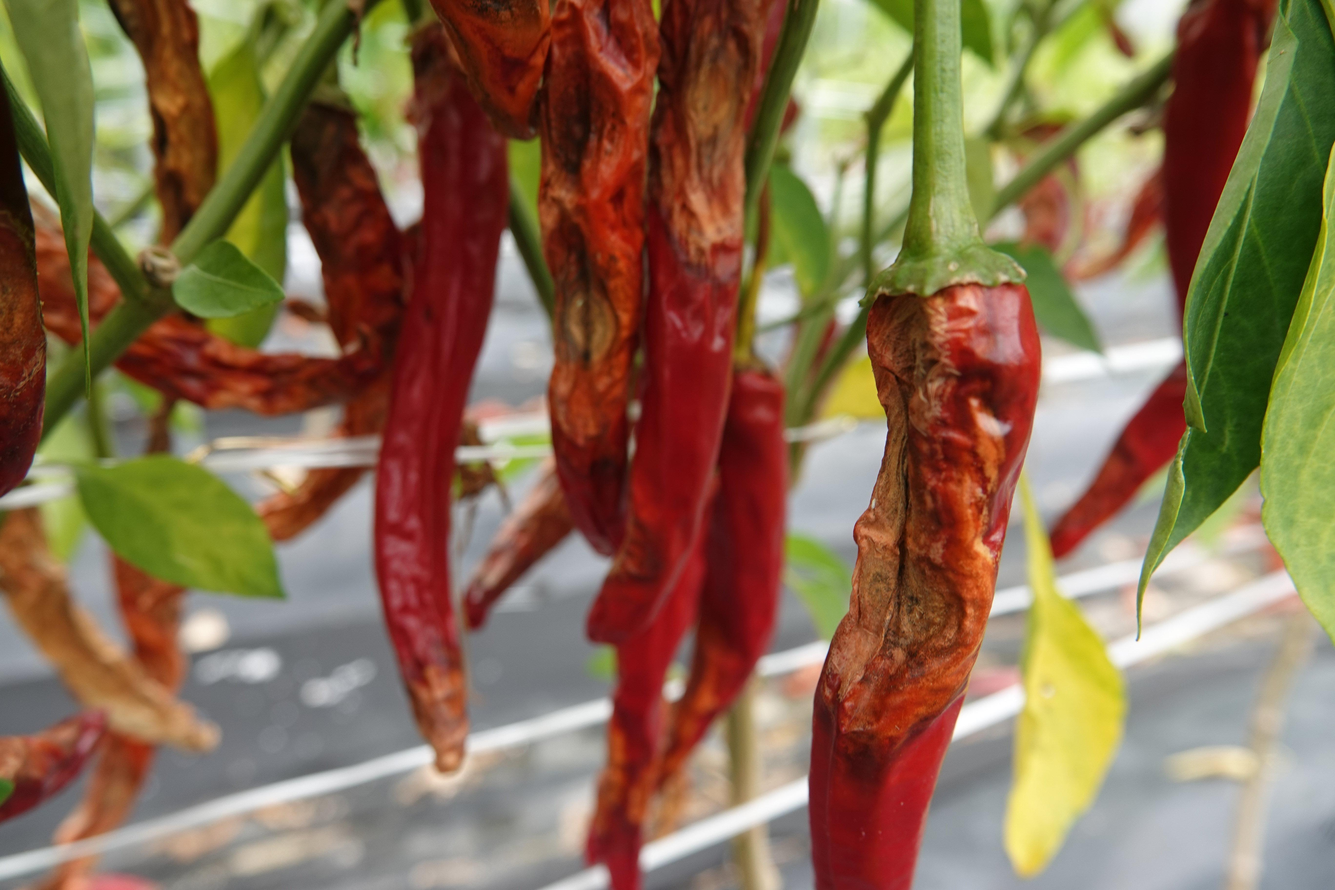Busuk Buah Antraknosa: (605, 0, 797, 890), (805, 237, 1051, 890), (371, 15, 512, 802), (542, 0, 668, 568)
